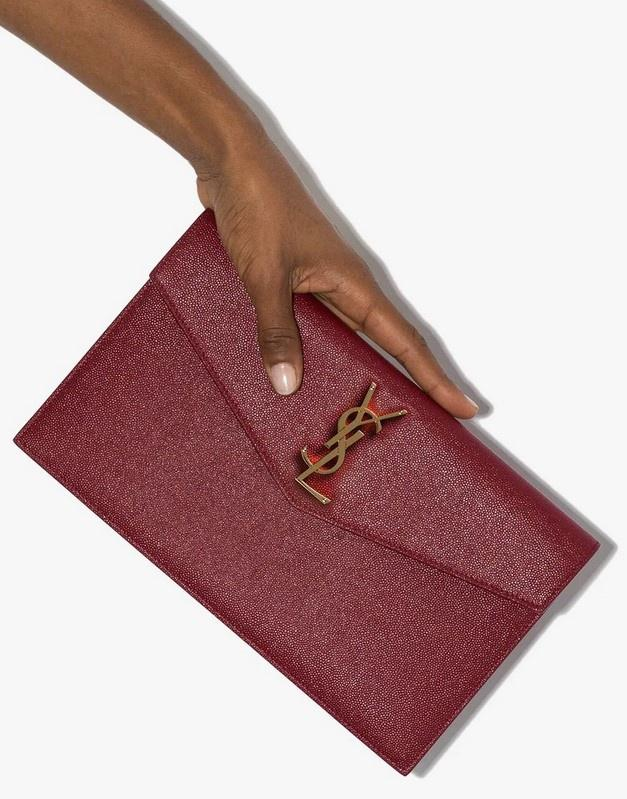YVES-SAINT-LAURENT: (294, 382, 408, 505)
